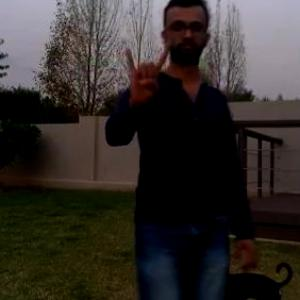takeoff-hand: (118, 36, 177, 112)
